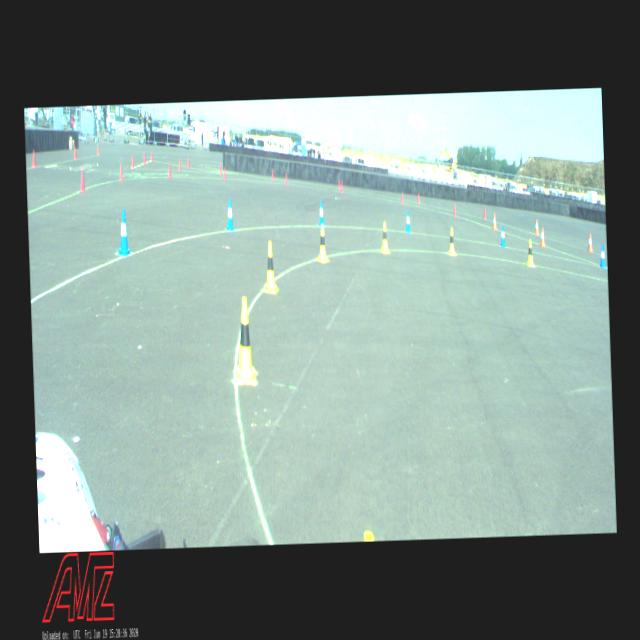blue_cone: (115, 210, 131, 256), (224, 198, 233, 230), (598, 243, 606, 268), (318, 200, 325, 227), (404, 209, 411, 233), (499, 224, 505, 247)
orange_cone: (586, 232, 593, 252), (538, 226, 544, 246), (491, 213, 497, 231), (534, 218, 539, 235)
yellow_cone: (232, 297, 256, 384), (262, 240, 276, 293), (316, 224, 328, 262), (380, 221, 389, 253), (448, 226, 456, 255), (526, 239, 534, 266)
